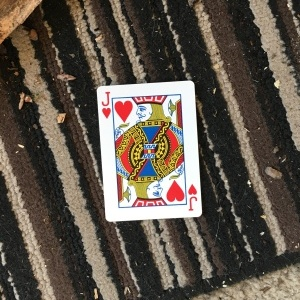card: (95, 78, 204, 222)
